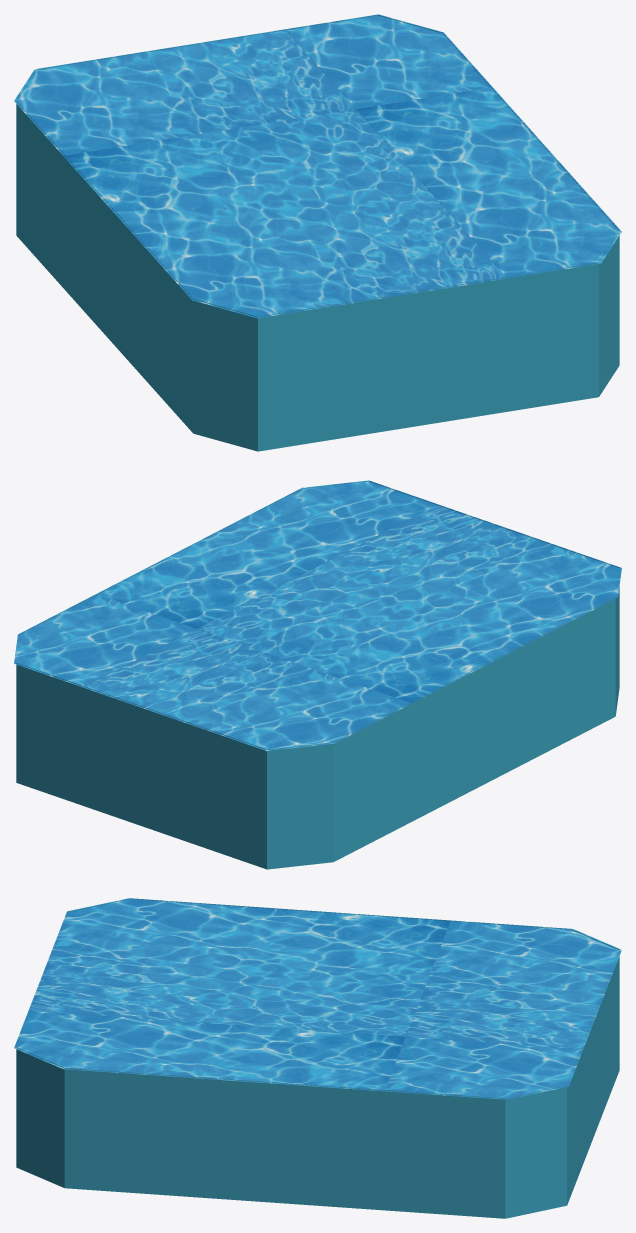
File: EstanqueB.obj
3 renders of one model, top to bottom at view 1: azimuth 30°, elevation 25°; view 2: azimuth 150°, elevation 25°; view 3: azimuth 270°, elevation 25°, orthographic. The views are drawn at different scales.
Visible parts, largest first — view 1: EstanqueB:pPlane2; view 2: EstanqueB:pPlane2; view 3: EstanqueB:pPlane2.
Boxes of the visible parts, left/top/right/bottom form: EstanqueB:pPlane2: left=14, top=14, right=621, bottom=451; EstanqueB:pPlane2: left=14, top=480, right=621, bottom=869; EstanqueB:pPlane2: left=14, top=898, right=621, bottom=1218.
Bounding box in the file's own units: 8.82 × 2.45 × 11.23.
2 materials, 2 textured.
